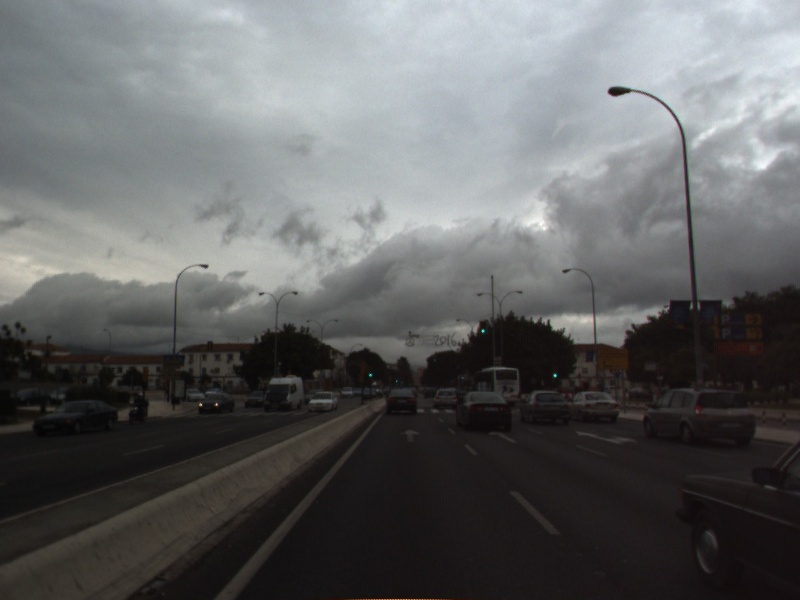STRAIGHT: (486, 429, 519, 445), (398, 427, 424, 444)
STRAIGHT_RIGHT: (574, 429, 640, 447)
